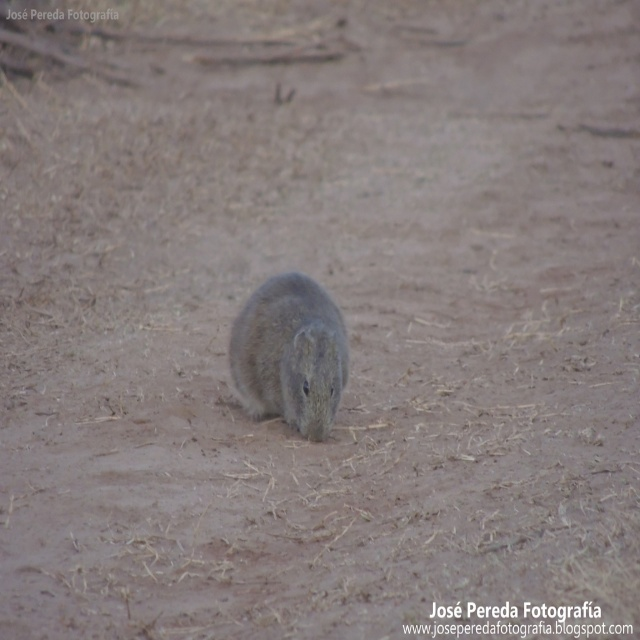Mouse: (226, 270, 350, 443)
